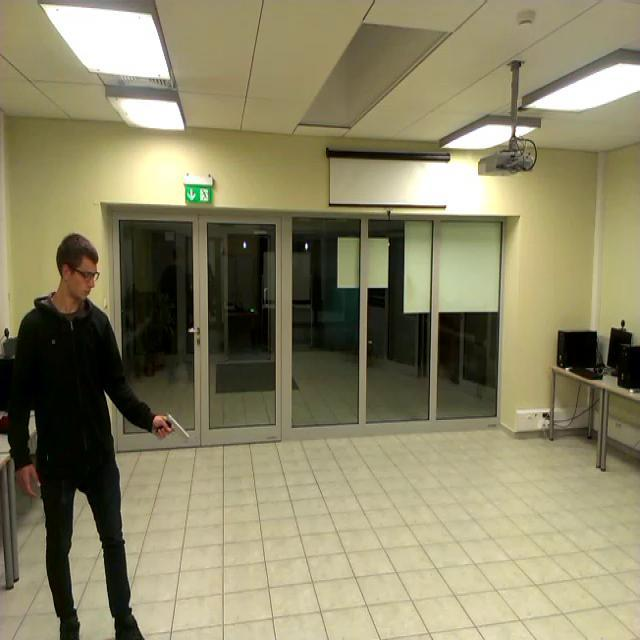Gun: (157, 412, 190, 440)
